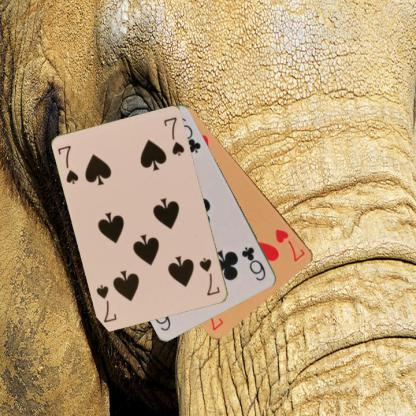6c: (238, 243, 268, 283)
7h: (273, 225, 307, 263)
7s: (55, 142, 80, 186), (197, 255, 221, 297)
